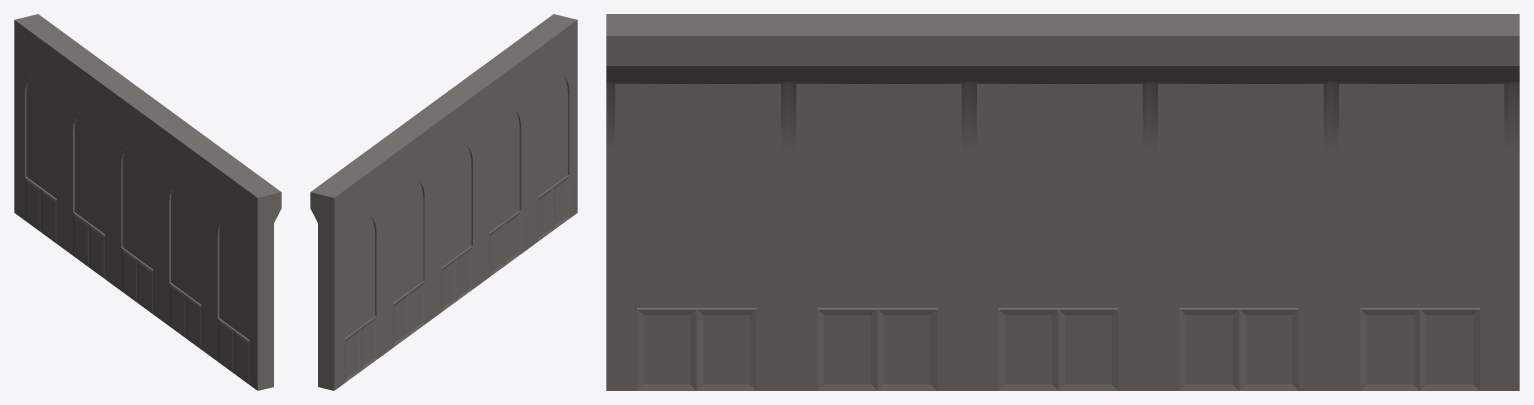
File: CouloirsComble_FenêtresBas_01.fbx
3 views of the same model, side by side, from view 1: azimuth 30°, elevation 25°; view 2: azimuth 150°, elevation 25°; view 3: azimuth 270°, elevation 25° (orthographic). The views are drawn at different scales.
Visible parts, largest first — view 1: FenêtresBas_01; view 2: FenêtresBas_01; view 3: FenêtresBas_01.
Part boxes in pixels (<box>): FenêtresBas_01: <box>14,14,281,390</box>; FenêtresBas_01: <box>310,14,577,390</box>; FenêtresBas_01: <box>606,14,1519,390</box>.
Bounding box in the file's own units: 0.8412 × 6.49 × 14.83.
